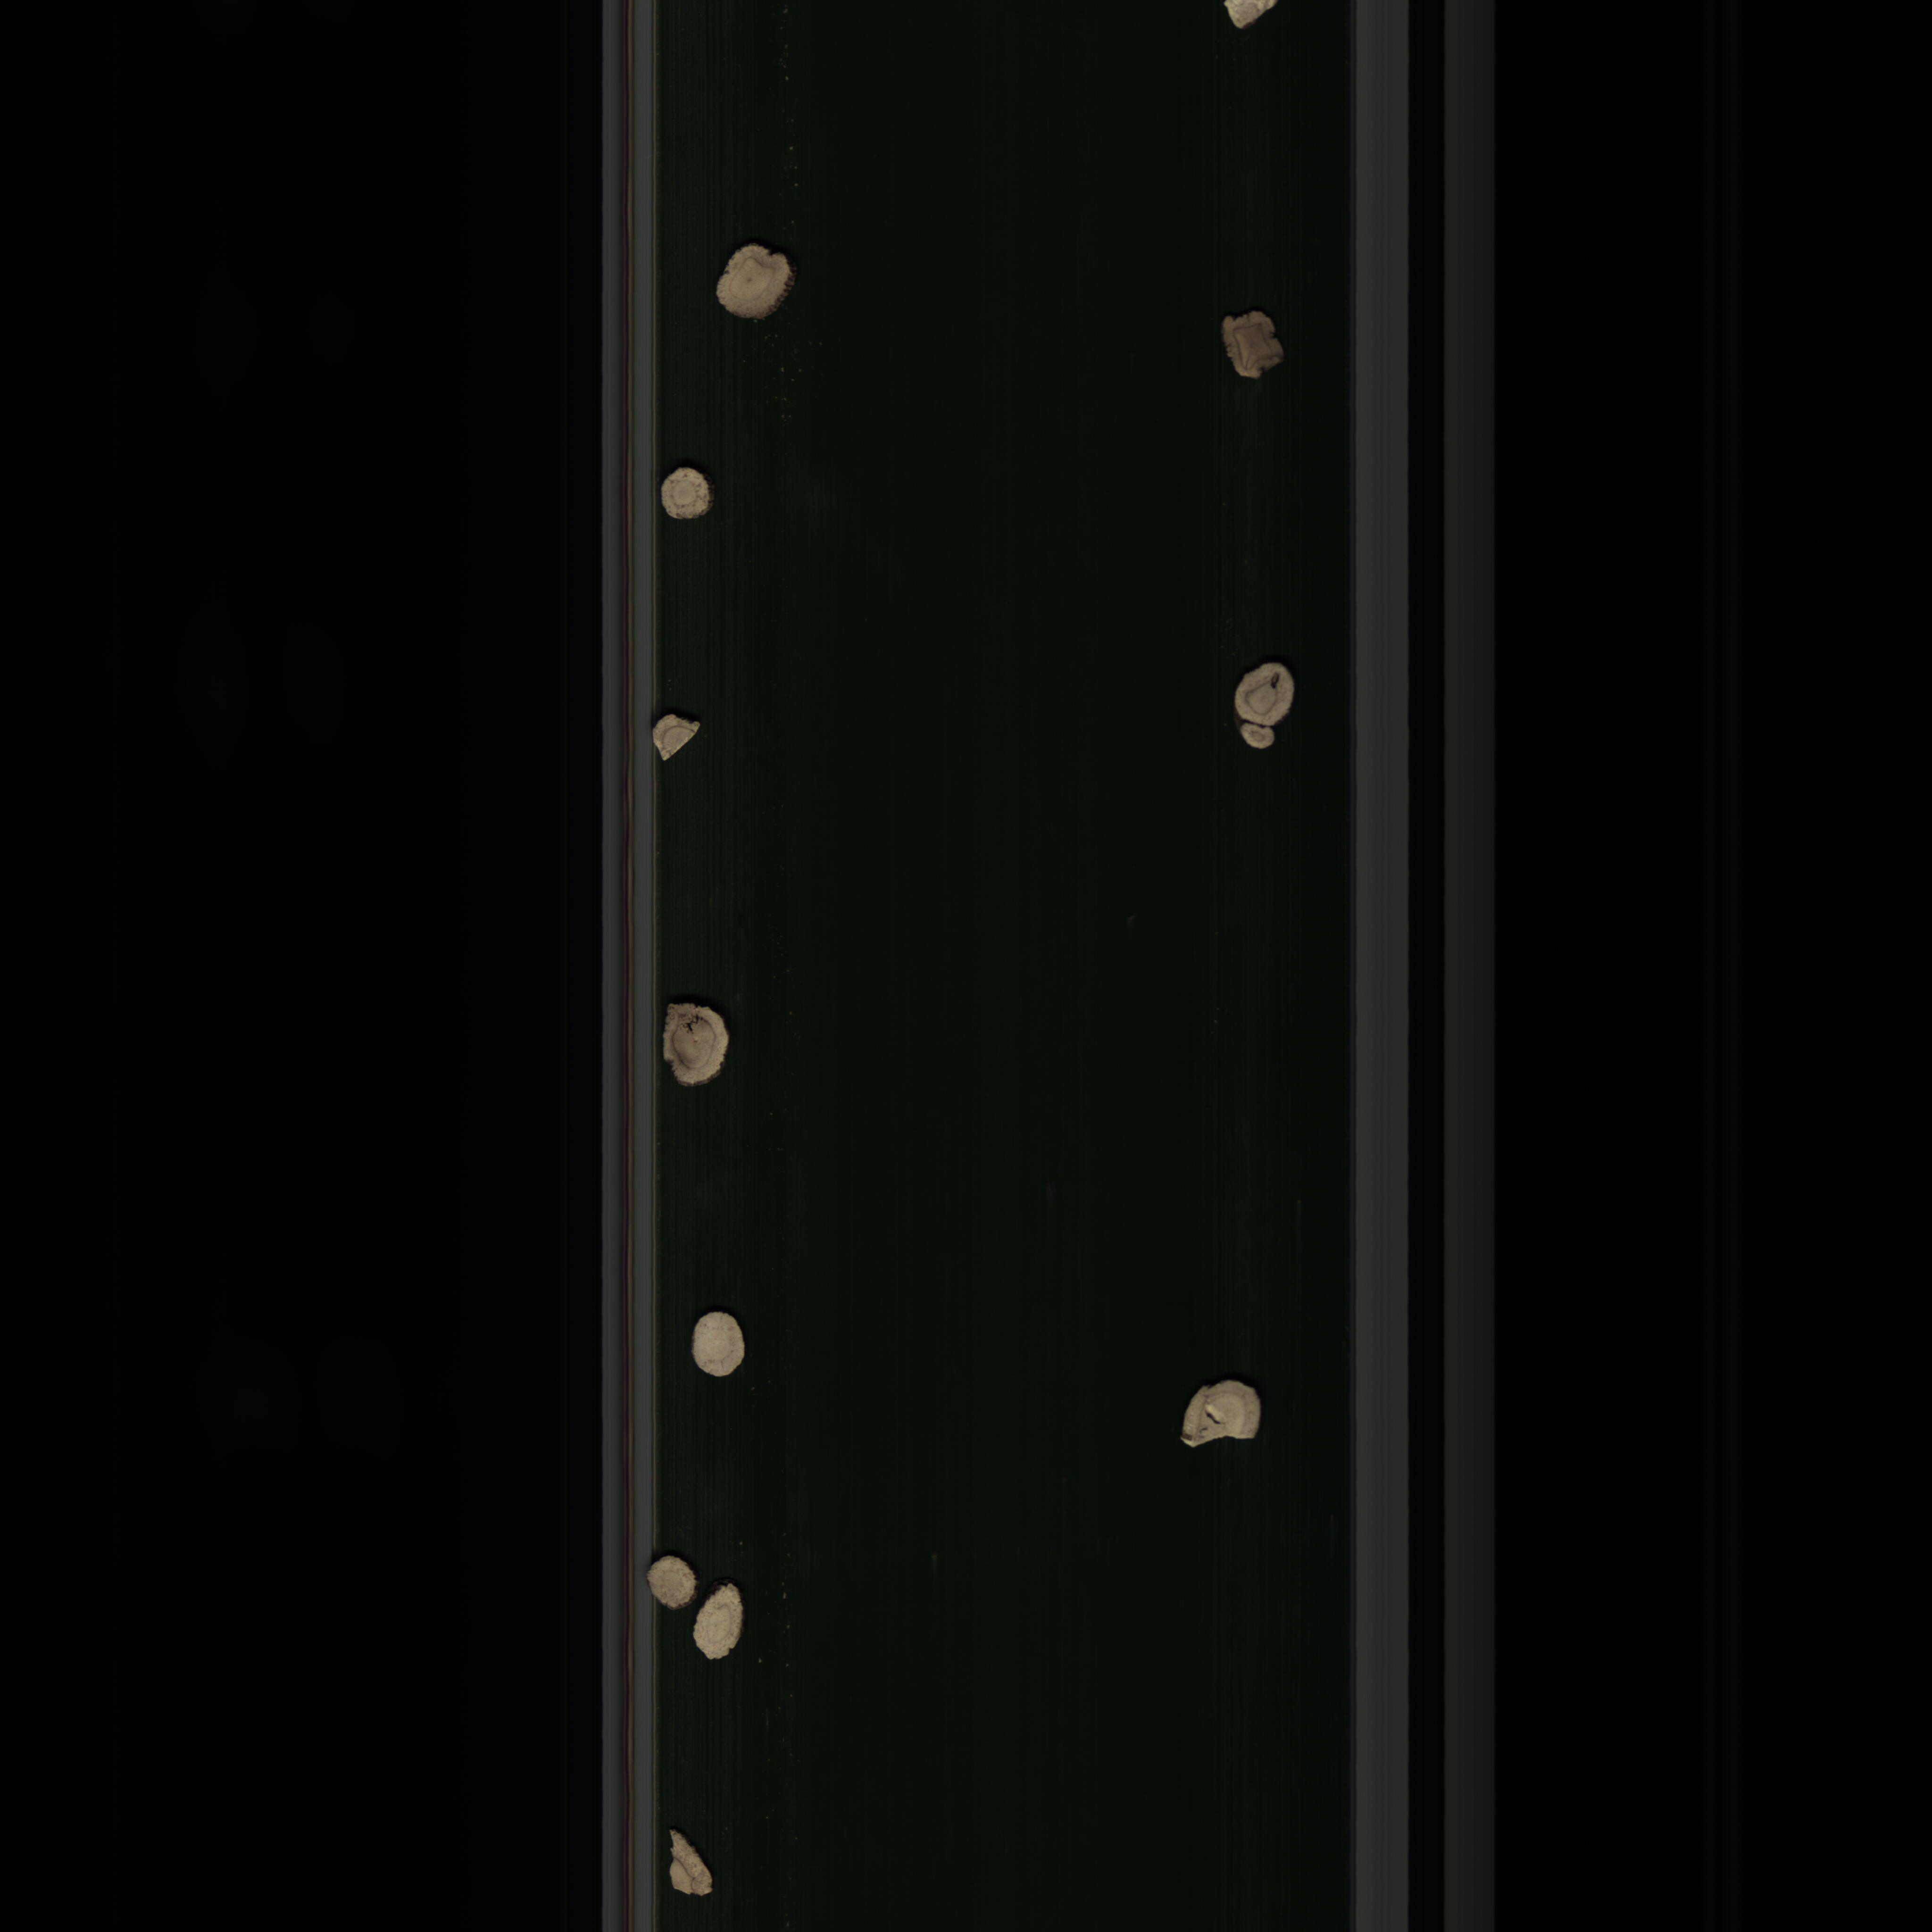debris: (656, 1821, 720, 1904), (651, 704, 709, 766)
hole: (1173, 1373, 1288, 1467), (1231, 655, 1299, 775)
moldy: (1207, 304, 1295, 396), (660, 994, 732, 1092)
